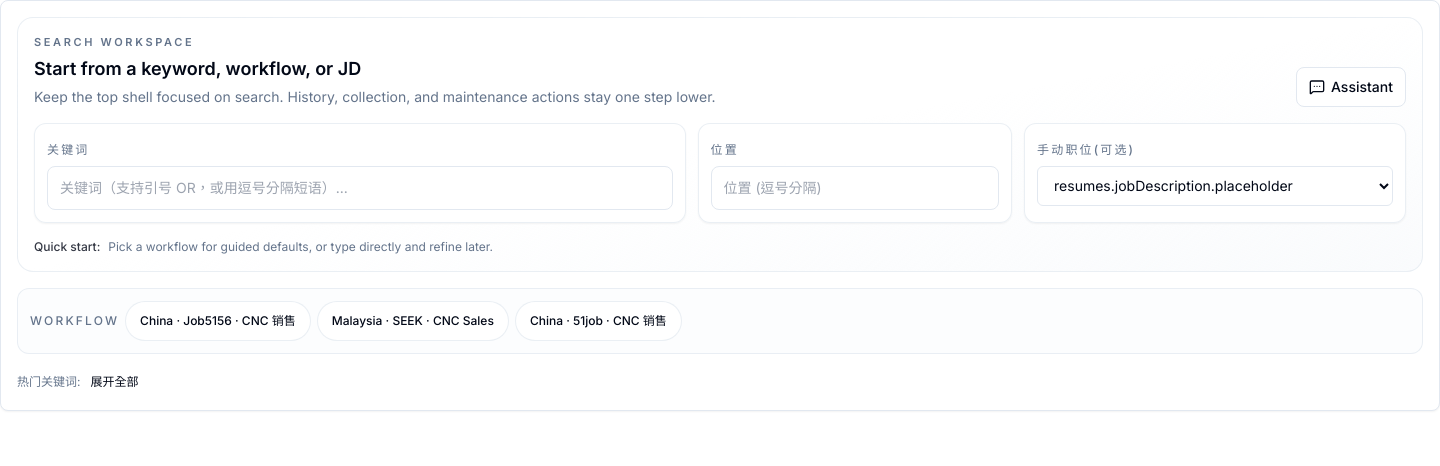
QuickStartPanel quick-filter display › applies the SEEK Malaysia workflow preset without splitting the location
The image size is (1440, 466).
Click the button "Malaysia · SEEK · CNC Sales": (413, 320) [317,300,509,340]
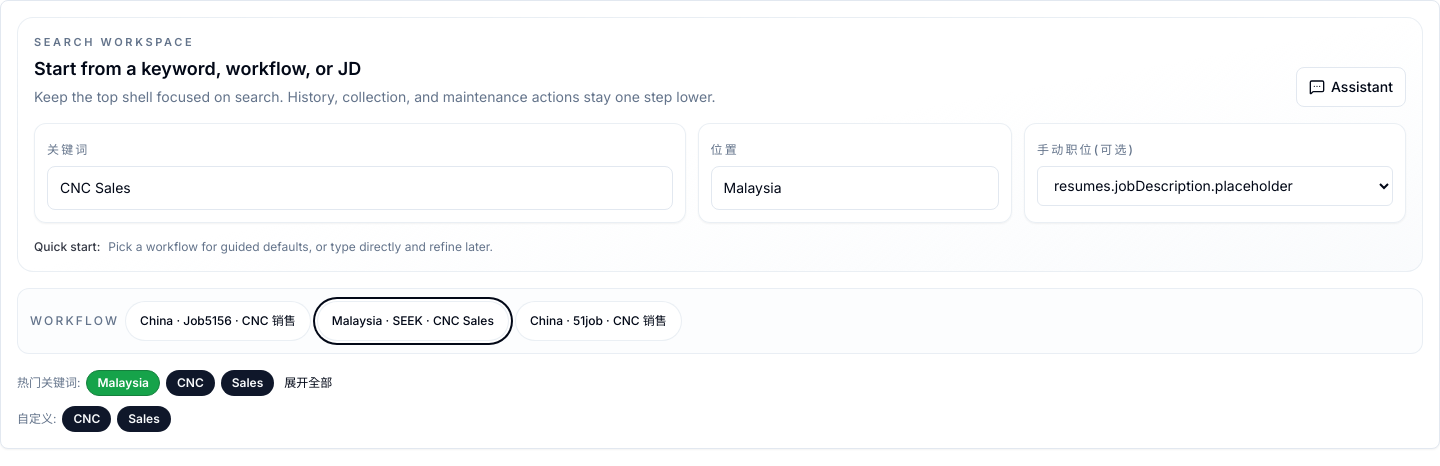
Now the field labelled "位置" holds "Malaysia", box [710,166,999,210]
Now the field showing "CNC Sales" is shown, box [47,166,672,210]
